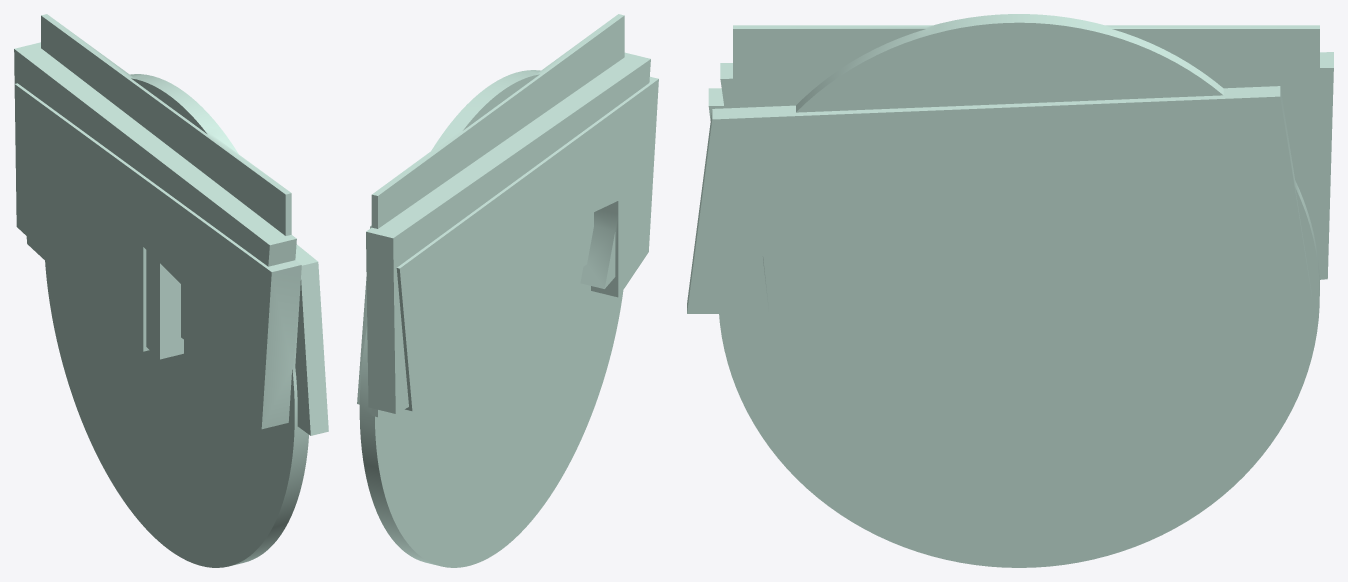
3 views of the same model, side by side, from view 1: azimuth 30°, elevation 25°; view 2: azimuth 150°, elevation 25°; view 3: azimuth 270°, elevation 25° (orthographic). The views are drawn at different scales.
Visible parts, largest first — view 1: Renderer Node; view 2: Renderer Node; view 3: Renderer Node.
Part boxes in pixels (box(x1,y1,x2,y2)): Renderer Node: box(14, 14, 328, 567); Renderer Node: box(357, 14, 658, 567); Renderer Node: box(687, 14, 1333, 567).
Size of the model in its own units: 0.125 by 1.13 by 1.21.
